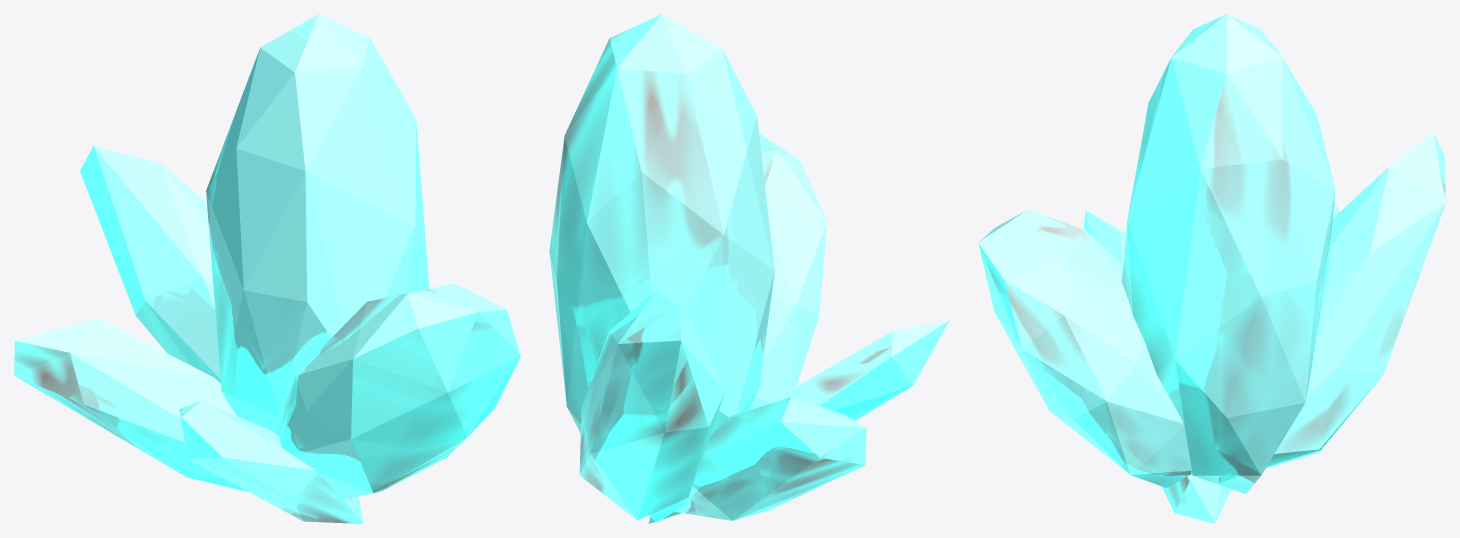
File: crystal-4.glb
3 renders of one model, left to right at view 1: azimuth 30°, elevation 25°; view 2: azimuth 150°, elevation 25°; view 3: azimuth 270°, elevation 25°, orthographic. The views are drawn at different scales.
Visible parts, largest first — view 1: Icosphere.013; view 2: Icosphere.013; view 3: Icosphere.013.
Boxes of the visible parts, <box> form: Icosphere.013: <box>14,14,520,523</box>; Icosphere.013: <box>549,14,948,523</box>; Icosphere.013: <box>978,14,1445,523</box>.
Bounding box in the file's own units: 3.66 × 4.97 × 4.21.
